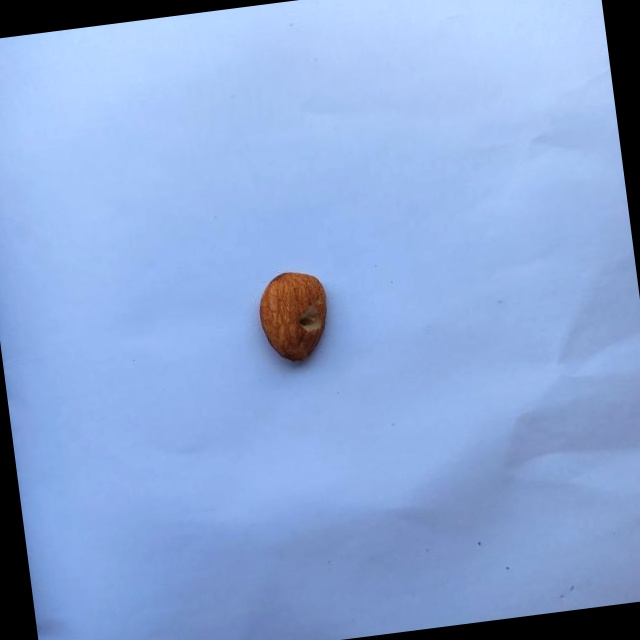grade3: (252, 263, 339, 371)
